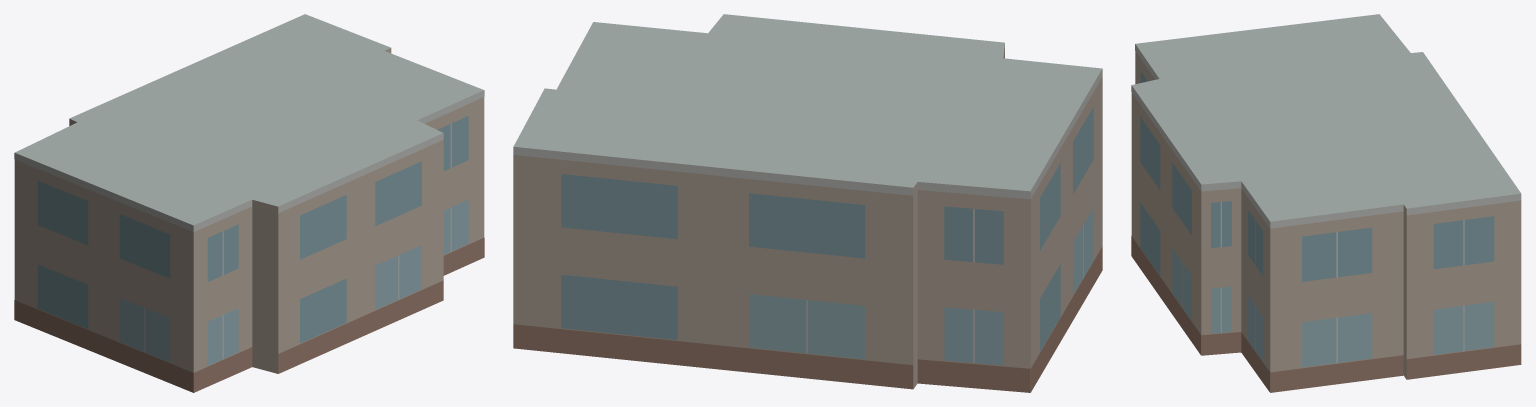
The model's file is survey-upis-33004106.glb.
3 views of the same model, side by side, from view 1: azimuth 30°, elevation 25°; view 2: azimuth 150°, elevation 25°; view 3: azimuth 270°, elevation 25° (orthographic). The views are drawn at different scales.
Parts seen in each view (by area): view 1: survey-upis-33004106.tmp; view 2: survey-upis-33004106.tmp; view 3: survey-upis-33004106.tmp.
Part boxes in pixels (x1=…): survey-upis-33004106.tmp: x1=14, y1=14, x2=484, y2=392; survey-upis-33004106.tmp: x1=513, y1=14, x2=1102, y2=392; survey-upis-33004106.tmp: x1=1131, y1=14, x2=1521, y2=392.
Size of the model in its own units: 15.89 by 6.1 by 12.61.
